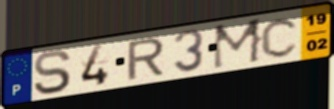3: (172, 29, 205, 74)
4: (79, 43, 111, 88)
C: (259, 16, 301, 59)
M: (210, 16, 265, 72)
R: (125, 36, 166, 82)
S: (31, 48, 73, 96)
